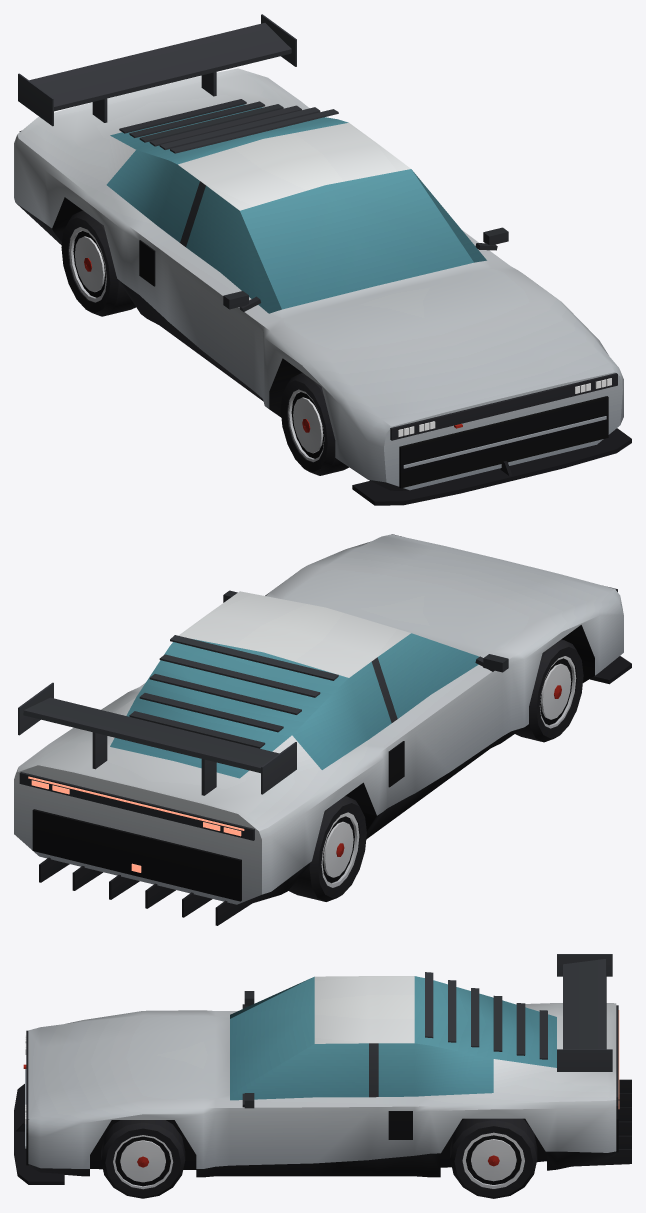
The model's file is Vision74.fbx.
The picture shows the model from 3 angles, top to bottom: view 1: azimuth 30°, elevation 25°; view 2: azimuth 150°, elevation 25°; view 3: azimuth 270°, elevation 25°; orthographic projection. The views are drawn at different scales.
Parts seen in each view (by area): view 1: body, wheel-back-right, wheel-front-right; view 2: body, wheel-back-right, wheel-front-right; view 3: body, wheel-back-left, wheel-front-left.
Part boxes in pixels (x1,y1,x2,y2): body: (14,14,631,505); wheel-back-right: (61,210,135,316); wheel-front-right: (280,373,348,475); body: (14,534,631,925); wheel-back-right: (288,796,366,901); wheel-front-right: (515,639,583,742); body: (14,954,631,1184); wheel-back-left: (450,1118,537,1198); wheel-front-left: (101,1120,185,1198).
Size of the model in its own units: 2.15 by 1.36 by 5.12.
3 materials, 1 textured.
